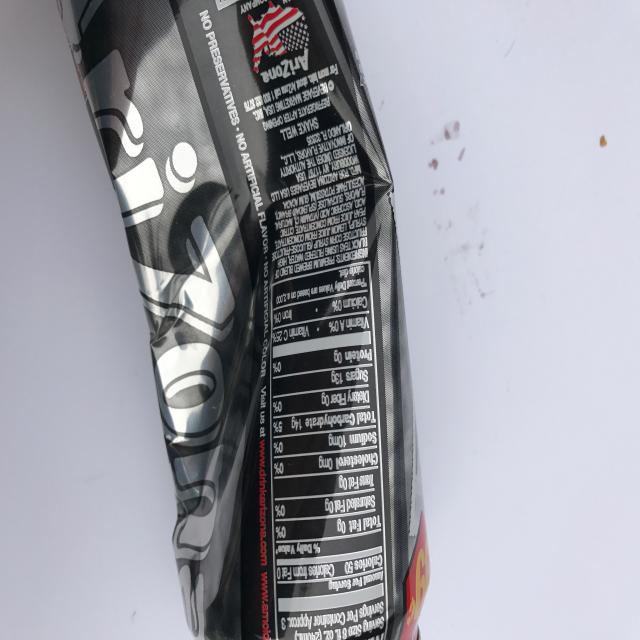metal: (56, 0, 431, 639)
